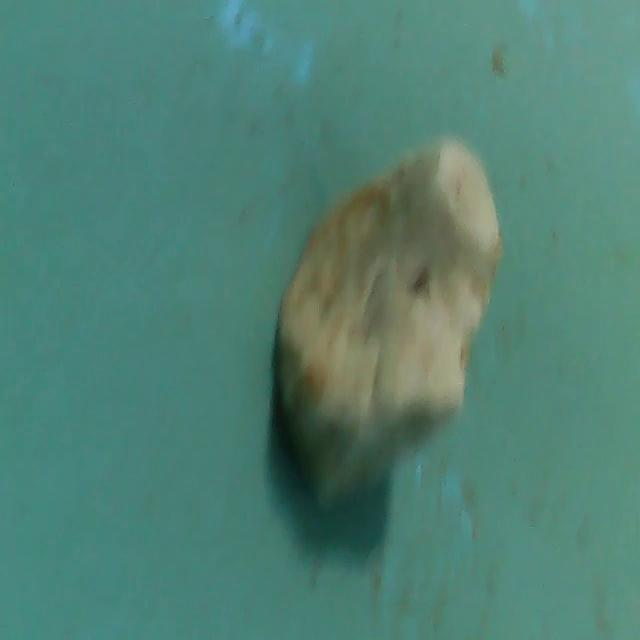rock: (268, 124, 502, 500)
